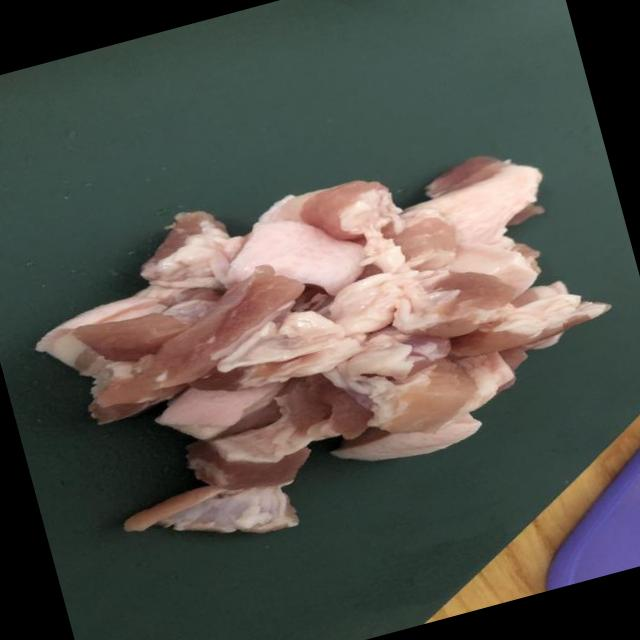chicken: (50, 127, 640, 577)
